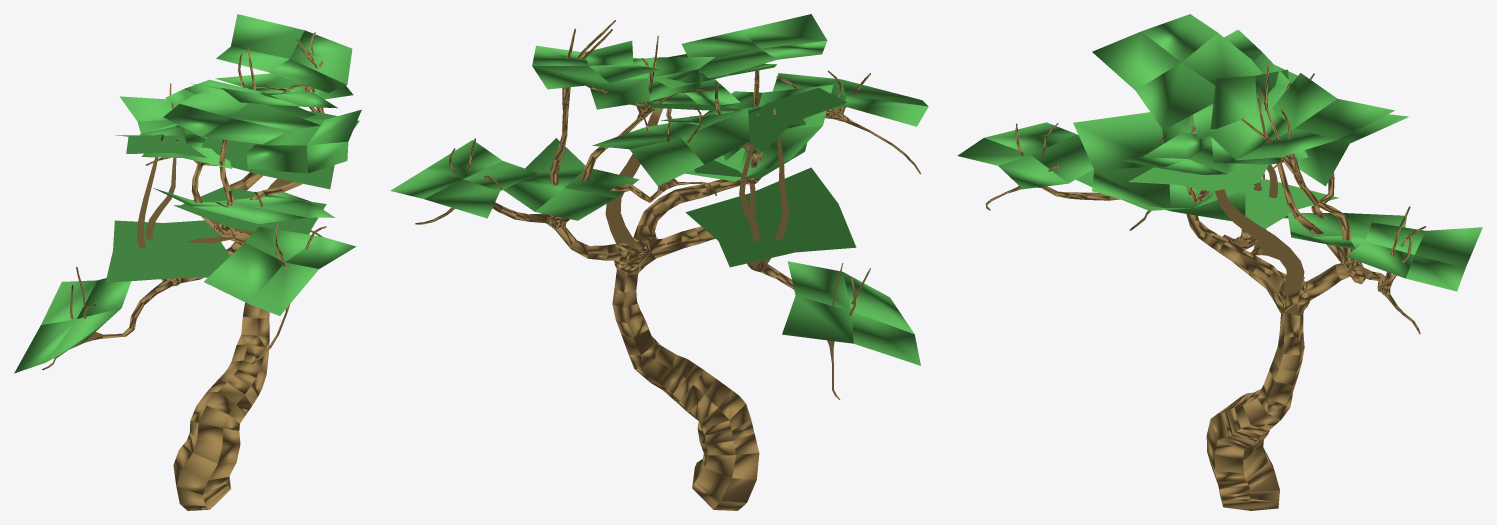
File: tree_6.fbx
3 renders of one model, left to right at view 1: azimuth 30°, elevation 25°; view 2: azimuth 150°, elevation 25°; view 3: azimuth 270°, elevation 25°, orthographic. The views are drawn at different scales.
Parts seen in each view (by area): view 1: tree6mesh; view 2: tree6mesh; view 3: tree6mesh.
Boxes of the visible parts, x1=… form: tree6mesh: x1=14, y1=14, x2=361, y2=510; tree6mesh: x1=390, y1=14, x2=928, y2=510; tree6mesh: x1=957, y1=14, x2=1482, y2=510.
Size of the model in its own units: 138 by 142 by 140.
